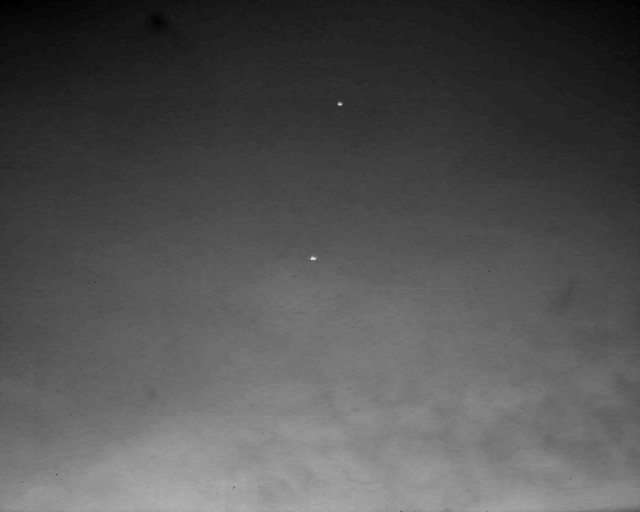Target: (309, 257, 318, 262), (338, 102, 344, 107)
